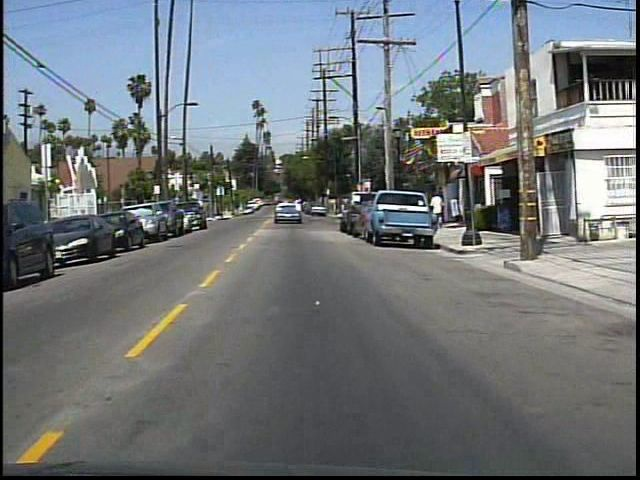person: (428, 190, 448, 230)
